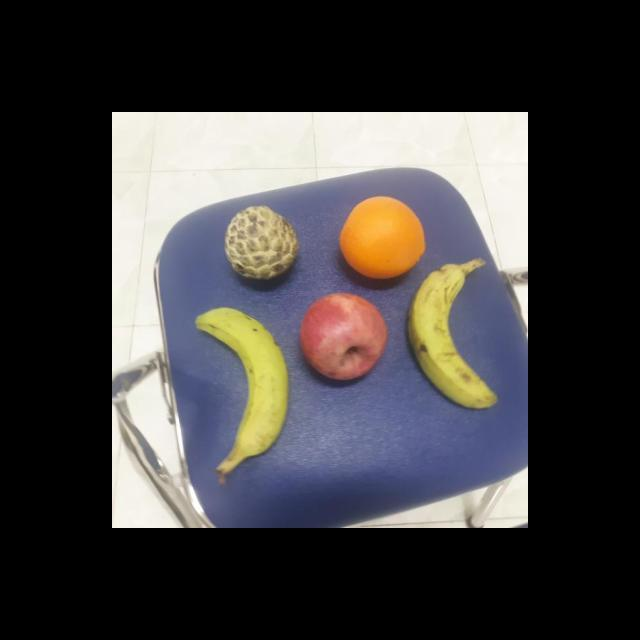Sakya fruit: (223, 203, 300, 280)
apple: (296, 292, 390, 385)
banana: (191, 302, 292, 458), (404, 260, 500, 412)
orange: (335, 194, 427, 280)
